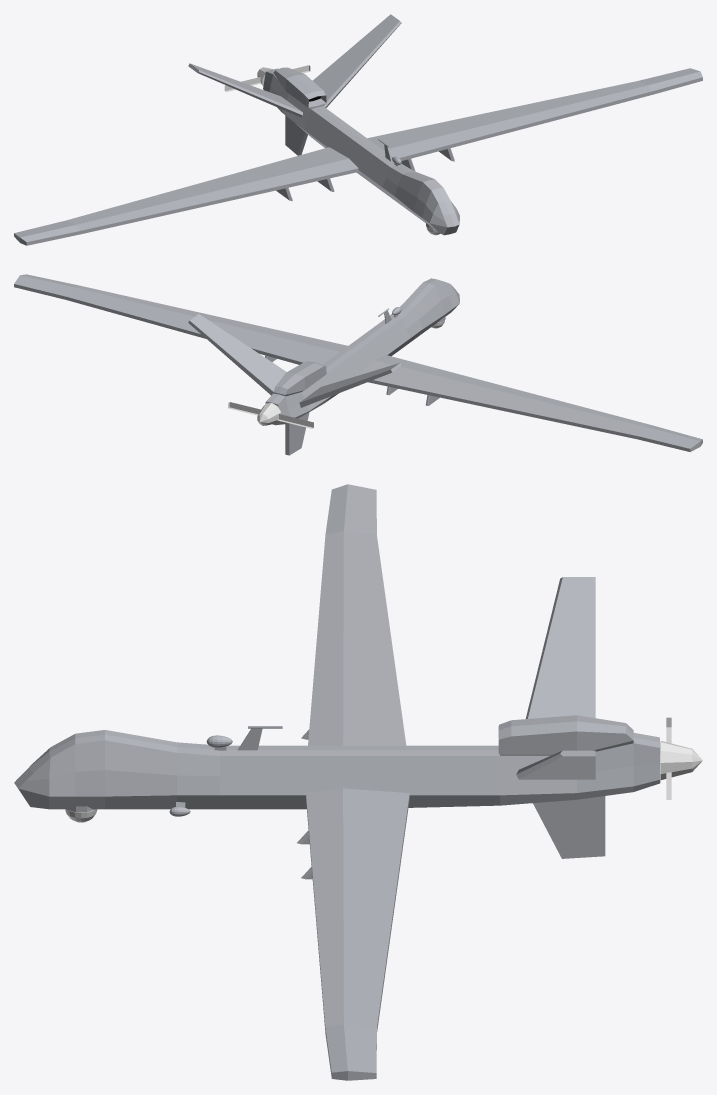
3 renders of one model, top to bottom at view 1: azimuth 30°, elevation 25°; view 2: azimuth 150°, elevation 25°; view 3: azimuth 270°, elevation 25°, orthographic. The views are drawn at different scales.
Visible parts, largest first — view 1: Aircraft, Propellor; view 2: Aircraft, Propellor; view 3: Aircraft, Propellor.
Boxes of the visible parts, box(x1,y1,x2,y2) form: Aircraft: box(14, 14, 702, 245); Propellor: box(224, 65, 310, 91); Aircraft: box(14, 274, 702, 455); Propellor: box(228, 402, 313, 428); Aircraft: box(14, 484, 660, 1080); Propellor: box(660, 717, 702, 799).
Bounding box in the file's own units: 23.73 × 3.65 × 11.77.
Materials: 1 (1 with a texture image).
